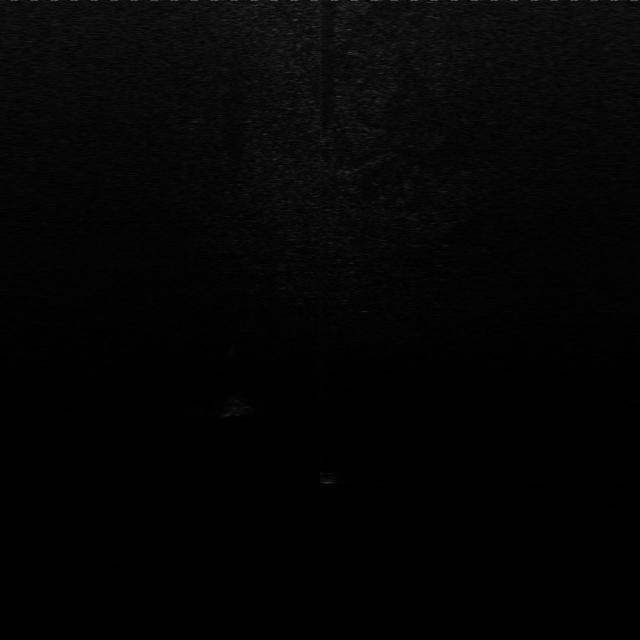circle cage: (216, 388, 256, 424)
tyre: (314, 456, 344, 487)
